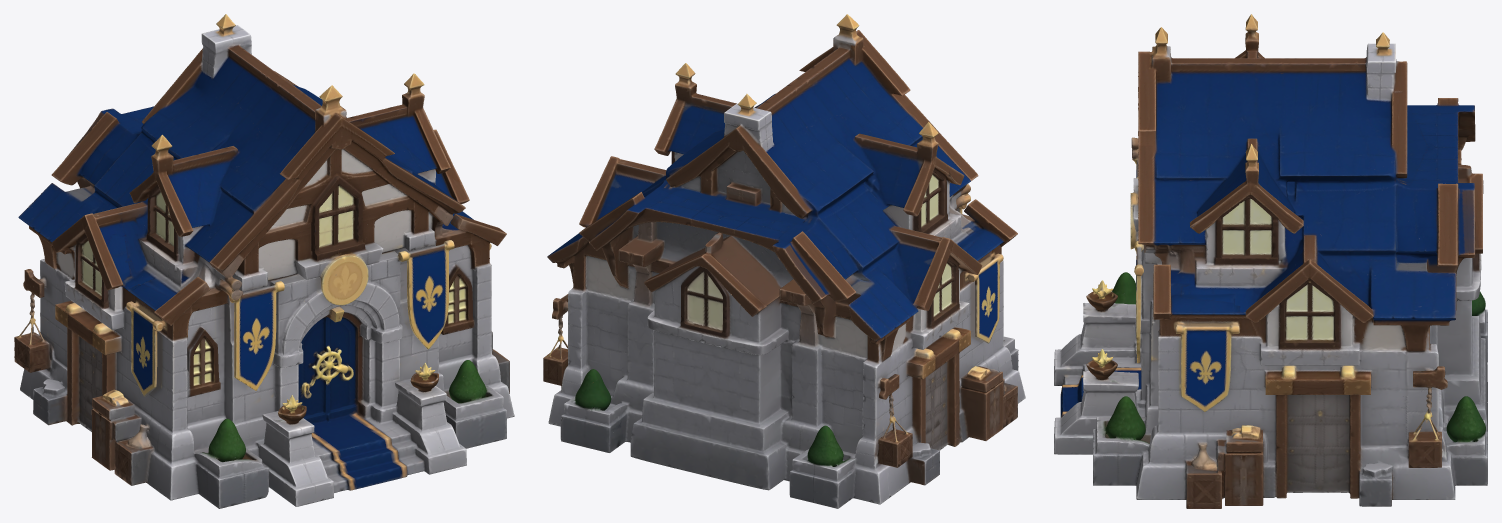
The model's file is bank_7_8.glb.
The picture shows the model from 3 angles, left to right: view 1: azimuth 30°, elevation 25°; view 2: azimuth 150°, elevation 25°; view 3: azimuth 270°, elevation 25°; orthographic projection. The views are drawn at different scales.
Size of the model in its own units: 1.9 by 1.74 by 1.77.
1 material, 1 textured.
